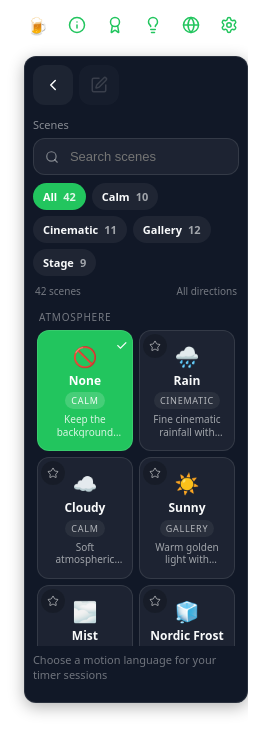
filters weather scenes with search and exposes a no-results state
Type "neon grid" into the field labelled "Search scenes" at {"x": 136, "y": 156}, box [33,138,239,175]
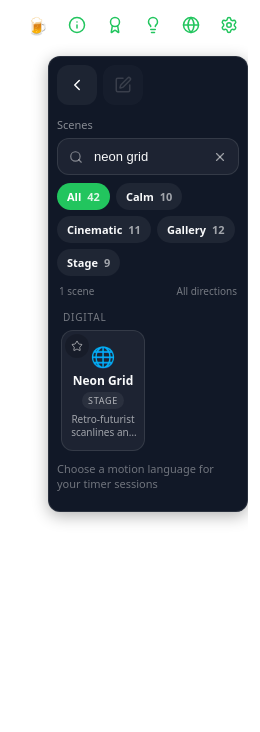
Result: the text "Neon Grid" is shown at [73,374,133,388]
Replace the text in the field named "Search scenes" with "zzzz" at {"x": 148, "y": 156}, box [57,138,239,175]
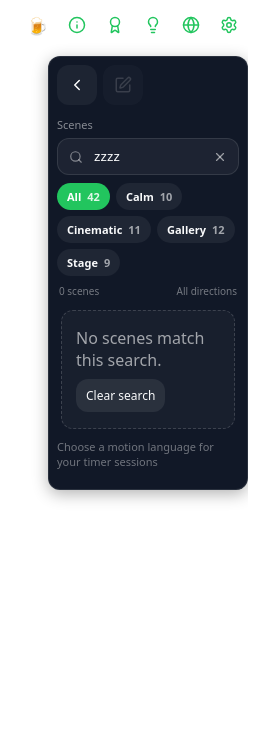
Result: the text "No scenes match this search." is shown at [76,327,220,371]
Click the button "Clear search" at {"x": 121, "y": 396}, box [76,379,165,412]
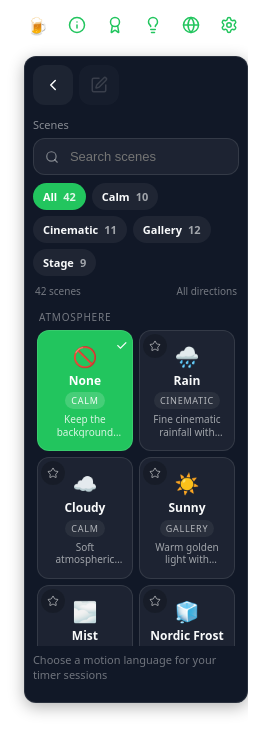
Result: the field labelled "Search scenes" is empty at [33,138,239,175]
